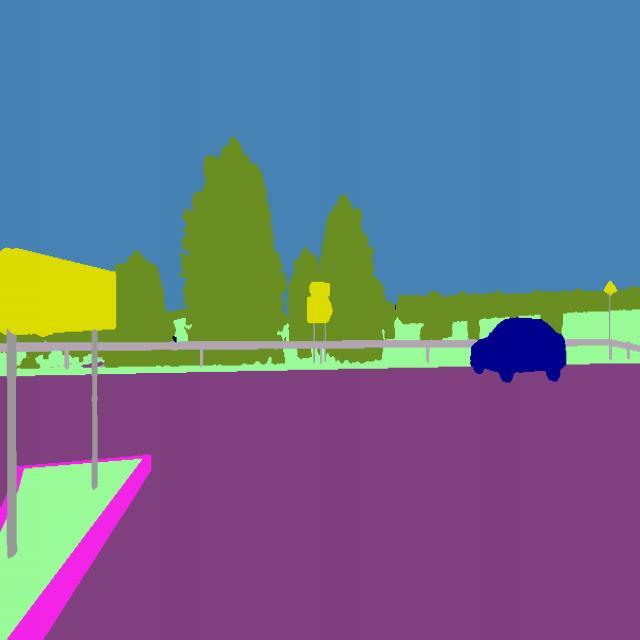safe: (465, 303, 578, 394)
